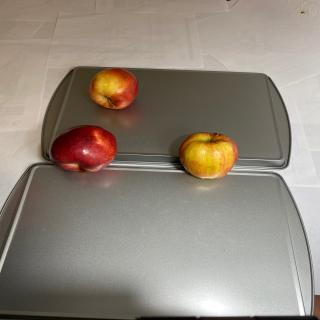Apple: (49, 125, 117, 173), (178, 132, 238, 179), (88, 68, 138, 109)
